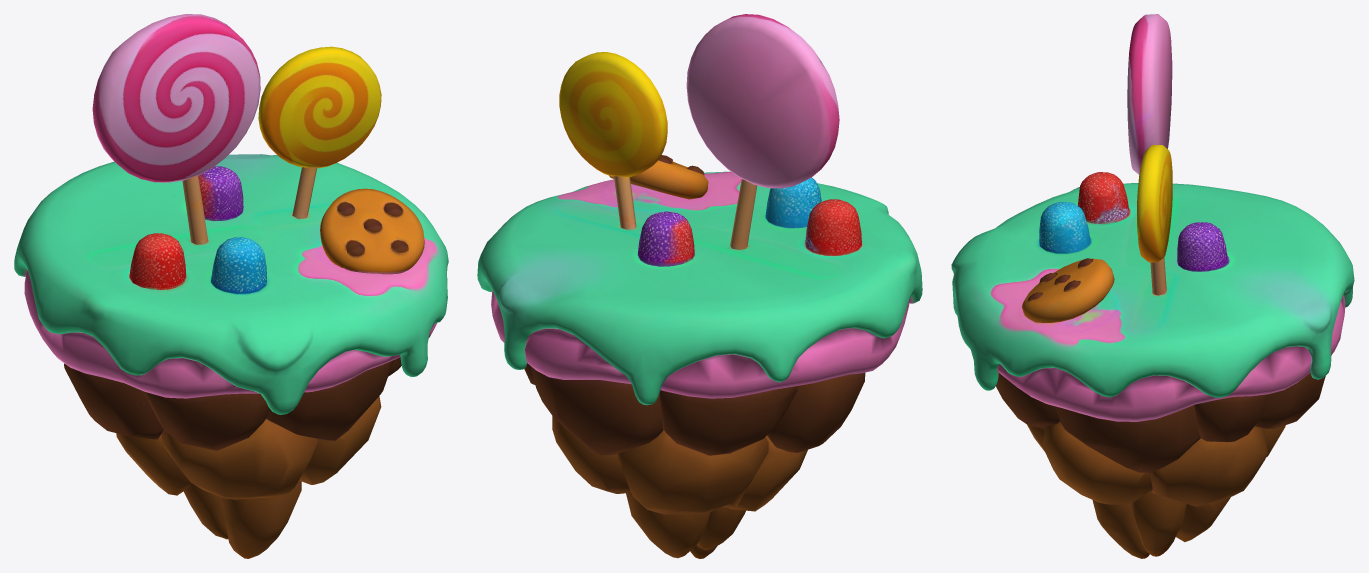
The model's file is island-candy-tripo.glb.
The picture shows the model from 3 angles, left to right: view 1: azimuth 30°, elevation 25°; view 2: azimuth 150°, elevation 25°; view 3: azimuth 270°, elevation 25°; orthographic projection. The views are drawn at different scales.
Visible parts, largest first — view 1: tripo_node_3ac8a120-f842-4b58-a226-09f98ca22f33; view 2: tripo_node_3ac8a120-f842-4b58-a226-09f98ca22f33; view 3: tripo_node_3ac8a120-f842-4b58-a226-09f98ca22f33.
Part boxes in pixels (x1,y1,x2,y2): tripo_node_3ac8a120-f842-4b58-a226-09f98ca22f33: (14,14,448,558); tripo_node_3ac8a120-f842-4b58-a226-09f98ca22f33: (477,14,922,558); tripo_node_3ac8a120-f842-4b58-a226-09f98ca22f33: (951,14,1354,558).
Bounding box in the file's own units: 0.7153 × 0.9995 × 0.7202.
Materials: 1 (1 with a texture image).
